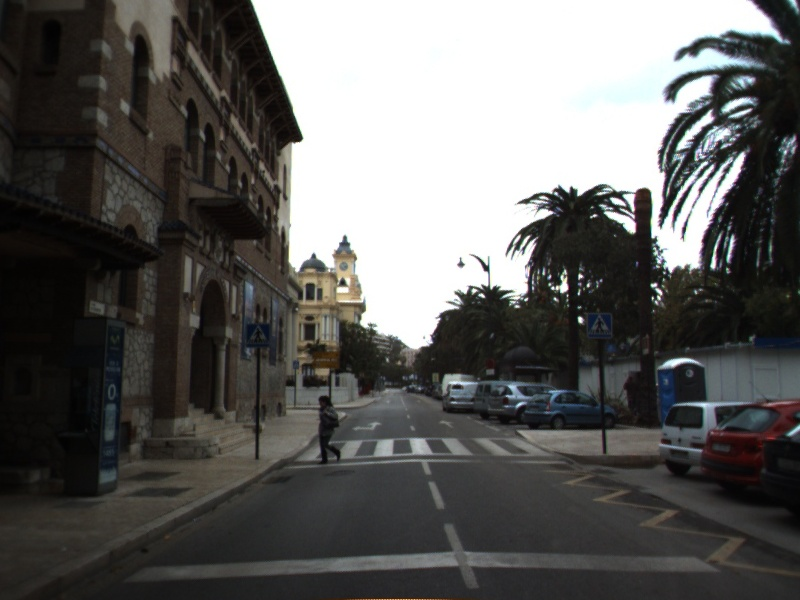STRAIGHT: (437, 418, 457, 430)
STRAIGHT_LEFT: (350, 420, 385, 433)
